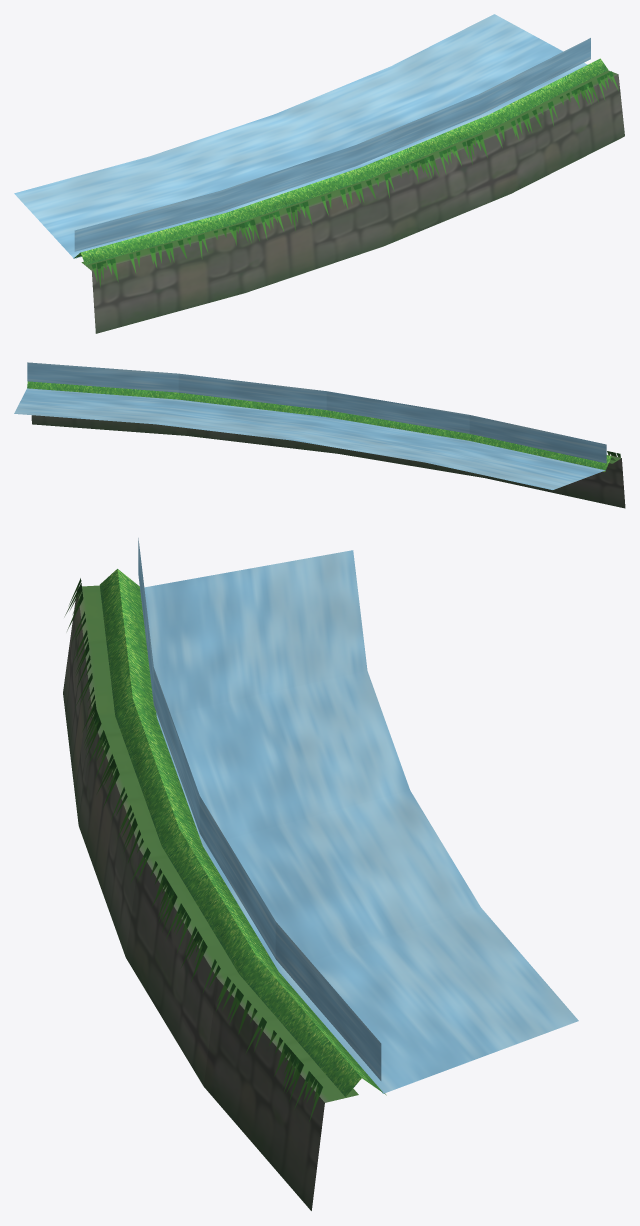
Rendered from terrace_convex_flooded_far.glb.
The picture shows the model from 3 angles, top to bottom: view 1: azimuth 30°, elevation 25°; view 2: azimuth 150°, elevation 25°; view 3: azimuth 270°, elevation 25°; orthographic projection. The views are drawn at different scales.
Visible parts, largest first — view 1: terrace_convex_flooded_far_water, terrace_convex_flooded_far_wall, terrace_convex_flooded_far_dike, terrace_convex_flooded_far_cards; view 2: terrace_convex_flooded_far_water, terrace_convex_flooded_far_wall, terrace_convex_flooded_far_dike; view 3: terrace_convex_flooded_far_water, terrace_convex_flooded_far_wall, terrace_convex_flooded_far_dike, terrace_convex_flooded_far_cards.
Part boxes in pixels (<box>): terrace_convex_flooded_far_water: <box>14,14,590,258</box>; terrace_convex_flooded_far_wall: <box>81,70,624,333</box>; terrace_convex_flooded_far_dike: <box>73,58,608,265</box>; terrace_convex_flooded_far_cards: <box>91,71,618,287</box>; terrace_convex_flooded_far_water: <box>14,362,606,489</box>; terrace_convex_flooded_far_wall: <box>31,415,625,508</box>; terrace_convex_flooded_far_dike: <box>27,381,615,471</box>; terrace_convex_flooded_far_water: <box>138,538,578,1093</box>; terrace_convex_flooded_far_wall: <box>63,585,358,1210</box>; terrace_convex_flooded_far_dike: <box>99,569,386,1096</box>; terrace_convex_flooded_far_cards: <box>64,578,322,1121</box>.
Size of the model in its own units: 11.72 by 1.64 by 4.95.
Materials: 3 (3 with a texture image).
